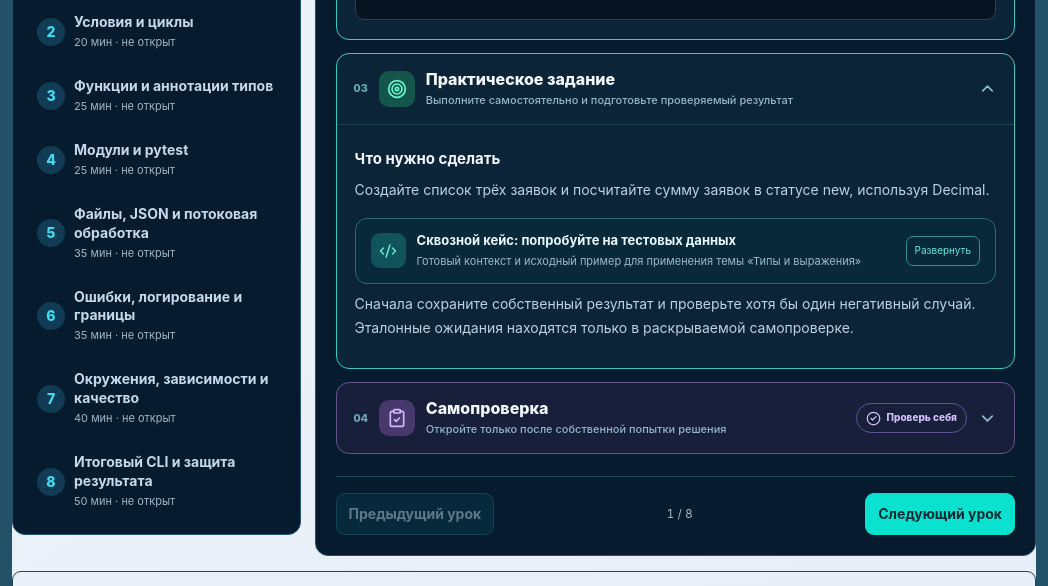
Test: Bootcamp editorial course curriculum › has working navigation and reveals real exercise expectations without awarding grade
The image size is (1048, 586).
(page scrolled)
Check: the button "Предыдущий урок" is disabled, box [336,493,494,535]
Click the button "Следующий урок" at (940, 514), box [865,493,1015,535]
(page scrolled)
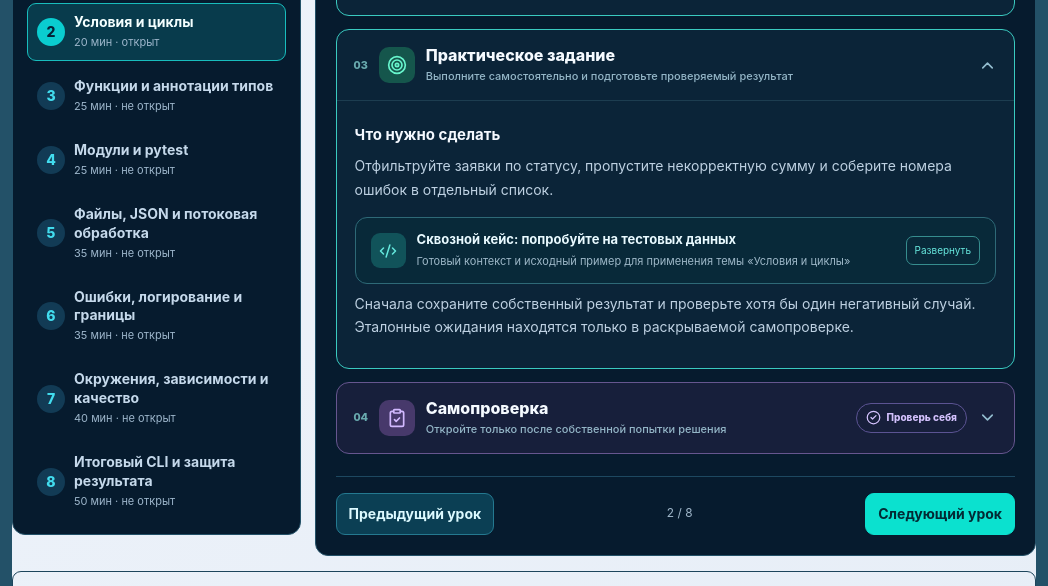
Check: the button "Показать ожидаемый результат" is not shown
Click the button "04 Самопроверка" at (397, 418), box [337,383,1014,453]
(page scrolled)
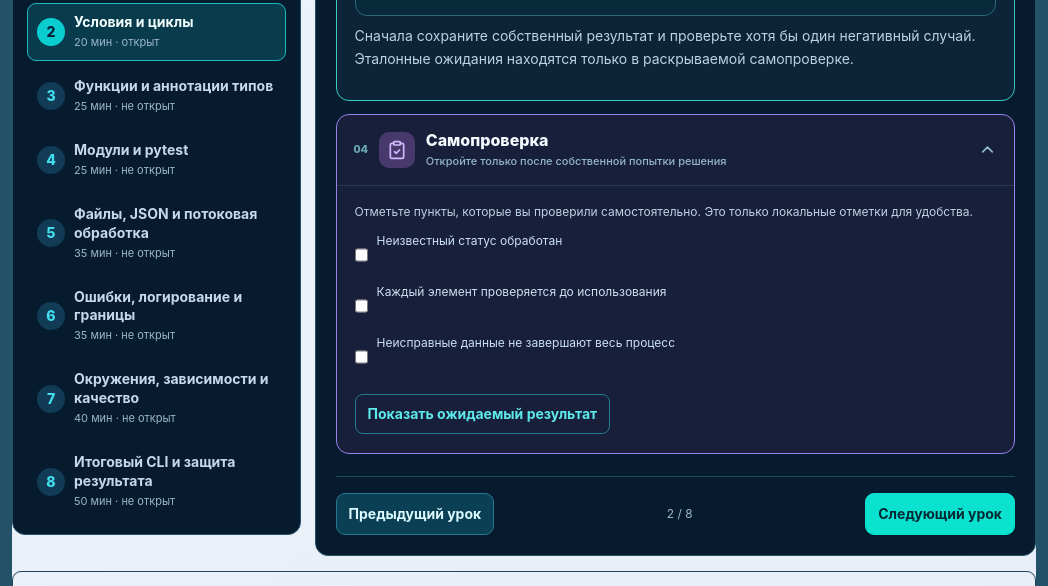
Click the button "Показать ожидаемый результат" at (482, 414), box [355,394,610,434]
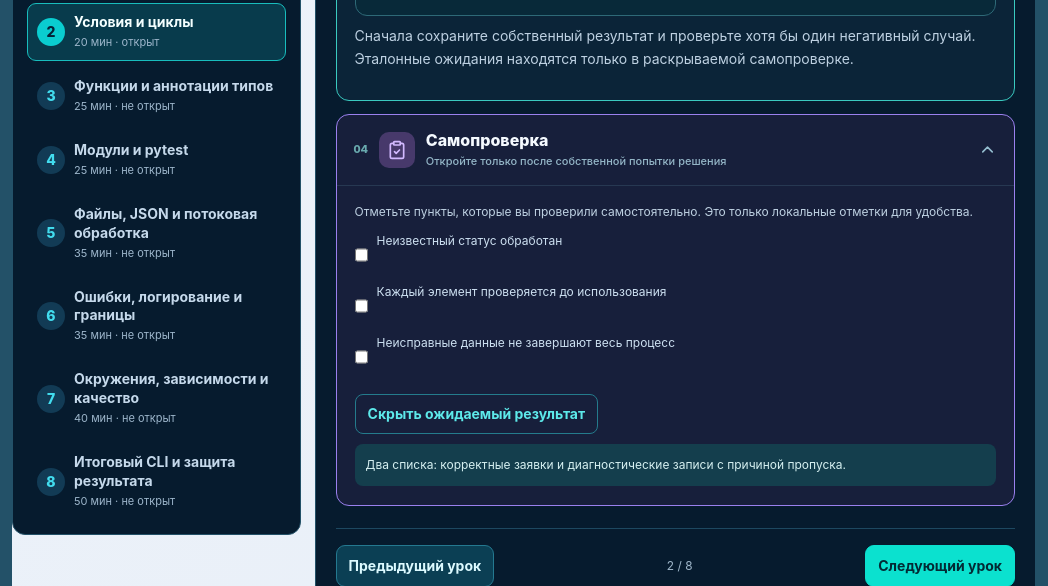
Check: the message shows "Два списка", box [366,457,846,472]
Click the button "Скрыть ожидаемый результат" at (476, 414), box [355,394,598,434]
(page scrolled)
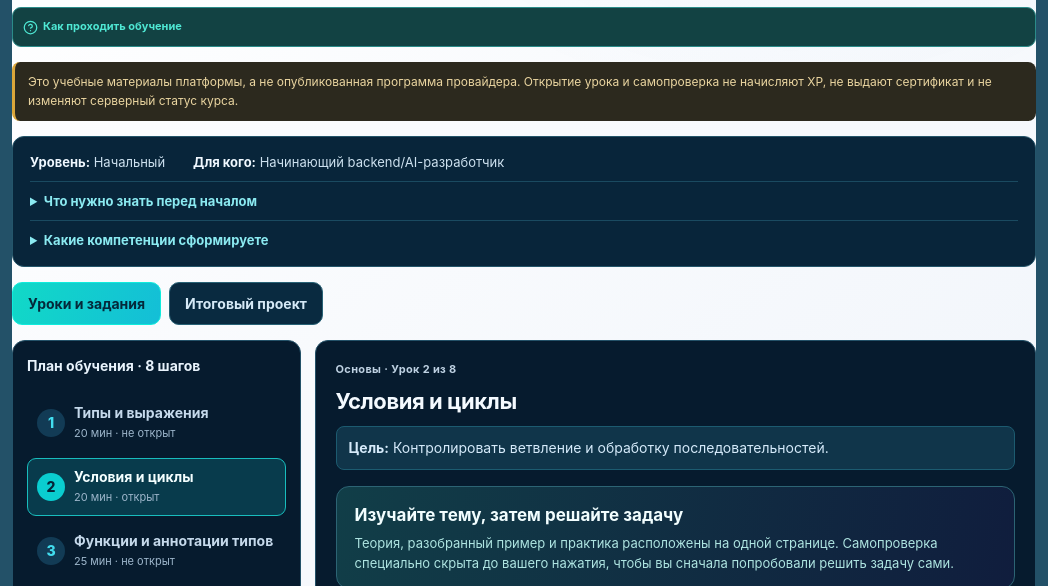
Check: the text "не начисляют XP" is shown, box [28,74,992,108]
Check: the message "Два списка: корректные заявки и диагностические записи с причиной пропуска." is gone
